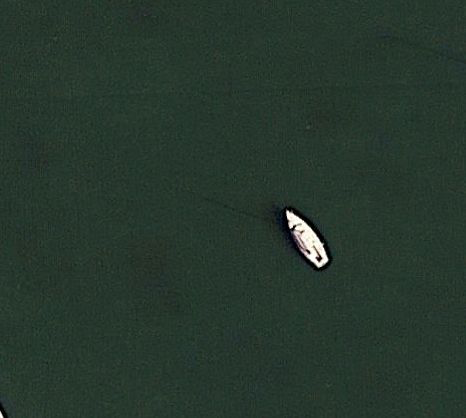boat: (282, 205, 333, 273)
